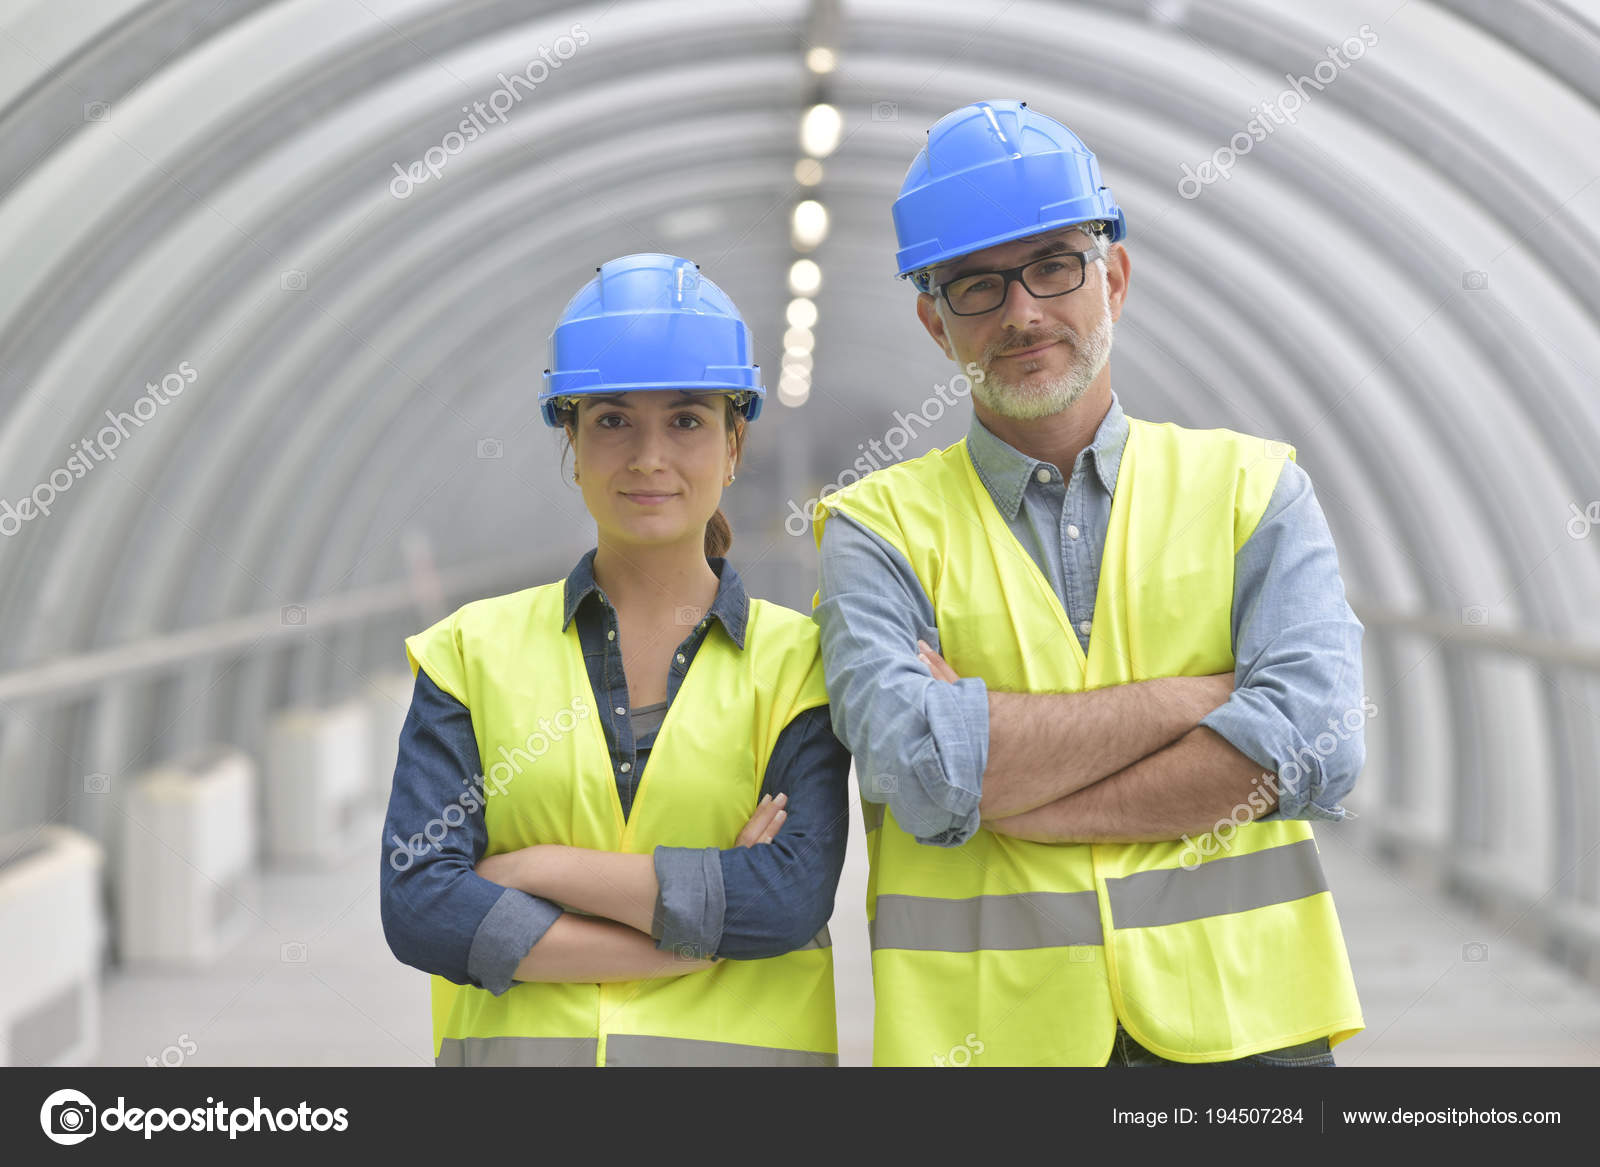Person_wearing_helmet: (886, 88, 1134, 346), (528, 243, 760, 443)
